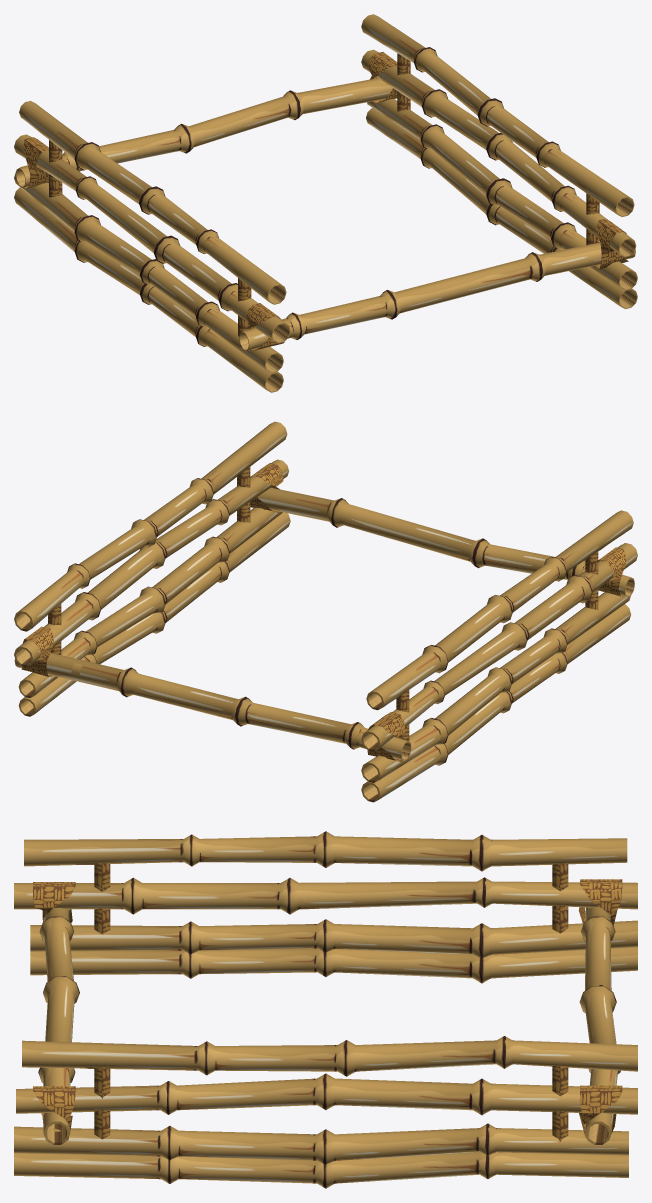
The model's file is mesaBamboo.FBX.
3 views of the same model, one above another, from view 1: azimuth 30°, elevation 25°; view 2: azimuth 150°, elevation 25°; view 3: azimuth 270°, elevation 25° (orthographic). The views are drawn at different scales.
Parts seen in each view (by area): view 1: mesaTabelaBamboo008, mesaTabelaBamboo01, mesaTabelaBamboo04, mesaTabelaBamboo007, mesaTabelaBamboo02, mesaTabelaBamboo05, mesaTabelaBamboo06, mesaTabelaBamboo03, mesaTabelaBamboo010, mesaTabelaBamboo009, mesaBambooAmarra03, mesaBambooAmarra01 (+2 smaller); view 2: mesaTabelaBamboo007, mesaTabelaBamboo01, mesaTabelaBamboo04, mesaTabelaBamboo008, mesaTabelaBamboo02, mesaTabelaBamboo06, mesaTabelaBamboo05, mesaTabelaBamboo03, mesaTabelaBamboo010, mesaTabelaBamboo009, mesaBambooAmarra02, mesaBambooAmarra04 (+2 smaller); view 3: mesaTabelaBamboo01, mesaTabelaBamboo04, mesaTabelaBamboo03, mesaTabelaBamboo02, mesaTabelaBamboo06, mesaTabelaBamboo05, mesaTabelaBamboo009, mesaTabelaBamboo010, mesaTabelaBamboo008, mesaTabelaBamboo007, mesaBambooAmarra02, mesaBambooAmarra01 (+6 smaller).
Part boxes in pixels (x1,y1,x2,y2): mesaTabelaBamboo008: [239, 242, 635, 351]; mesaTabelaBamboo01: [361, 14, 634, 216]; mesaTabelaBamboo04: [19, 100, 286, 304]; mesaTabelaBamboo007: [15, 78, 392, 187]; mesaTabelaBamboo02: [361, 49, 636, 257]; mesaTabelaBamboo05: [14, 134, 290, 343]; mesaTabelaBamboo06: [14, 165, 283, 373]; mesaTabelaBamboo03: [367, 99, 637, 290]; mesaTabelaBamboo010: [14, 187, 283, 392]; mesaTabelaBamboo009: [366, 108, 637, 309]; mesaBambooAmarra03: [595, 218, 628, 269]; mesaBambooAmarra01: [23, 137, 48, 188]; mesaTabelaBamboo007: [14, 652, 411, 760]; mesaTabelaBamboo01: [14, 421, 287, 631]; mesaTabelaBamboo04: [366, 510, 633, 710]; mesaTabelaBamboo008: [257, 487, 634, 597]; mesaTabelaBamboo02: [14, 459, 288, 666]; mesaTabelaBamboo06: [361, 592, 630, 782]; mesaTabelaBamboo05: [361, 543, 637, 751]; mesaTabelaBamboo03: [18, 507, 282, 697]; mesaTabelaBamboo010: [361, 604, 631, 802]; mesaTabelaBamboo009: [18, 512, 290, 716]; mesaBambooAmarra02: [21, 626, 53, 676]; mesaBambooAmarra04: [598, 547, 626, 596]; mesaTabelaBamboo01: [22, 1036, 637, 1076]; mesaTabelaBamboo04: [24, 831, 627, 871]; mesaTabelaBamboo03: [14, 1123, 628, 1164]; mesaTabelaBamboo02: [16, 1073, 637, 1115]; mesaTabelaBamboo06: [30, 919, 637, 958]; mesaTabelaBamboo05: [14, 877, 637, 914]; mesaTabelaBamboo009: [14, 1152, 628, 1188]; mesaTabelaBamboo010: [30, 947, 637, 983]; mesaTabelaBamboo008: [38, 908, 79, 1144]; mesaTabelaBamboo007: [579, 907, 620, 1144]; mesaBambooAmarra02: [579, 1085, 622, 1137]; mesaBambooAmarra01: [578, 879, 622, 925].
Bounding box in the file's own units: 182 × 55.06 × 210.
